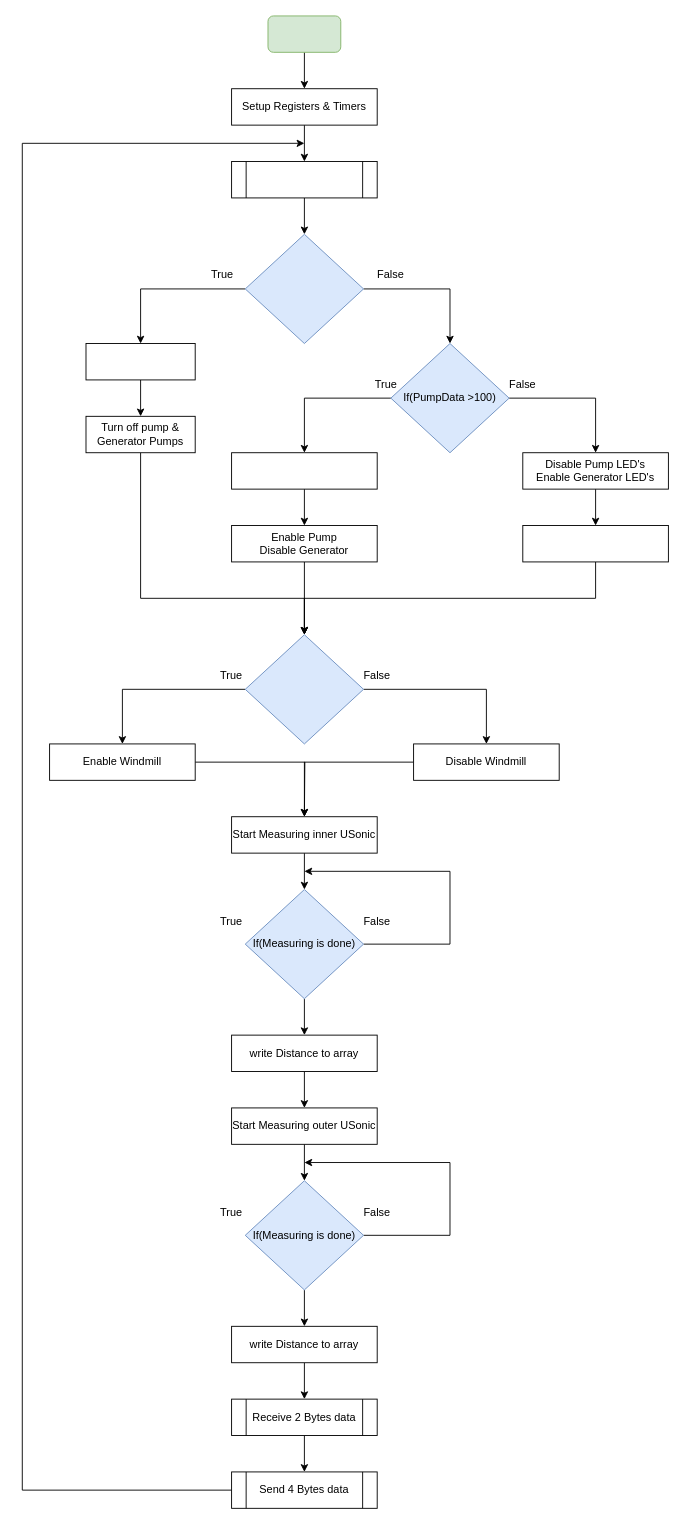
The diagram is 684 pixels wide and 1524 high, and some of its shapes have lost their labels. Each missing label, with the box of its shape:
Disable Pump Enable Generator: (522, 525, 668, 562)
Enable Pump LED's Disable Generator LED's: (231, 452, 377, 489)
If(PumpData == 0): (244, 233, 364, 344)
If(WindData == 0): (244, 634, 364, 744)
Reset Watchdog: (231, 161, 377, 198)
Start: (267, 15, 341, 52)
Turn off pump & Generator LED's: (85, 343, 195, 380)
